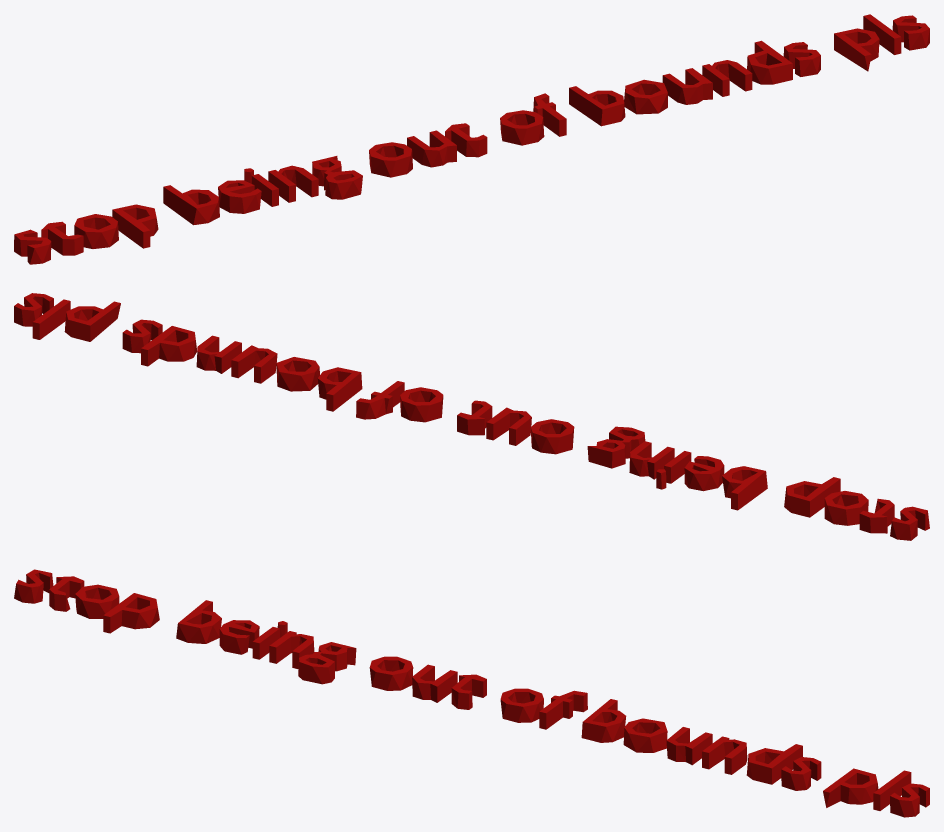
Rendered from oob-text.glb.
3 renders of one model, top to bottom at view 1: azimuth 30°, elevation 25°; view 2: azimuth 150°, elevation 25°; view 3: azimuth 330°, elevation 25°, orthographic.
Parts seen in each view (by area): view 1: Text; view 2: Text; view 3: Text.
Part boxes in pixels (x1,y1,x2,y2): Text: (14,14,929,264); Text: (14,293,929,540); Text: (14,569,929,817).
Bounding box in the file's own units: 11.44 × 0.2002 × 0.9197.
